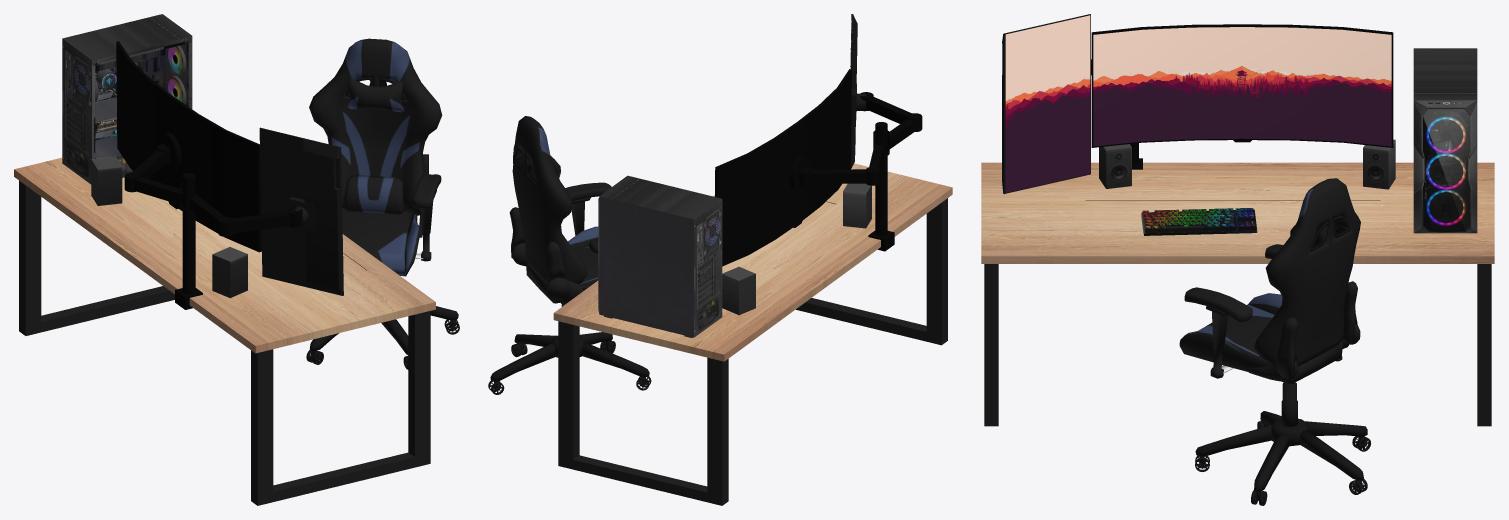
File: setup.glb
3 renders of one model, left to right at view 1: azimuth 30°, elevation 25°; view 2: azimuth 150°, elevation 25°; view 3: azimuth 270°, elevation 25°, orthographic. The views are drawn at different scales.
Parts seen in each view (by area): view 1: desk, whole_boundary_Plane.004, Plane.006, Plane_Plane.001, Cylinder, Cube, Plane.001, Plane.003, Cube.003, Cube.004, Cube.002, Cube.005; view 2: desk, Plane_Plane.001, whole_boundary_Plane.004, Plane.006, Cube, Plane.003, Plane.001, Cube.005, Cylinder, Cube.003, Cube.002, Cube.004; view 3: desk, Plane.006, whole_boundary_Plane.004, Cylinder, Plane_Plane.001, Plane, Plane.003, Plane.001.
Boxes of the visible parts, x1,y1,x2,y2 form: desk: (14,157,435,505); whole_boundary_Plane.004: (306,38,459,369); Plane.006: (116,41,261,252); Plane_Plane.001: (62,14,192,184); Cylinder: (259,127,343,295); Cube: (175,173,202,309); Plane.001: (212,247,247,297); Plane.003: (91,156,122,205); Cube.003: (232,207,302,233); Cube.004: (124,172,182,205); Cube.002: (189,194,233,236); Cube.005: (132,144,170,178); desk: (553,163,952,505); Plane_Plane.001: (598,175,722,337); whole_boundary_Plane.004: (488,116,651,394); Plane.006: (715,69,851,266); Cube: (868,122,894,251); Plane.003: (722,266,755,315); Plane.001: (843,183,871,228); Cube.005: (799,167,867,186); Cylinder: (850,14,865,168); Cube.003: (860,92,911,123); Cube.002: (889,113,922,148); Cube.004: (865,142,883,185); desk: (981,162,1494,426); Plane.006: (1091,24,1393,147); whole_boundary_Plane.004: (1179,178,1370,505); Cylinder: (1002,14,1090,194); Plane_Plane.001: (1413,48,1477,233); Plane: (1141,208,1257,235); Plane.003: (1363,139,1395,189); Plane.001: (1099,144,1131,188).
Bounding box in the file's own units: 6.04 × 5.27 × 7.
Materials: 20 (12 with a texture image).
